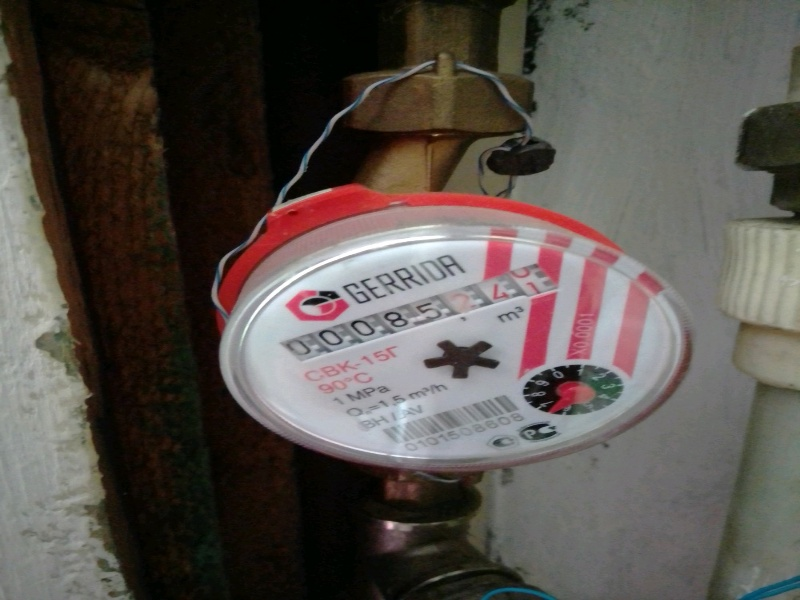meter: (286, 272, 567, 358)
